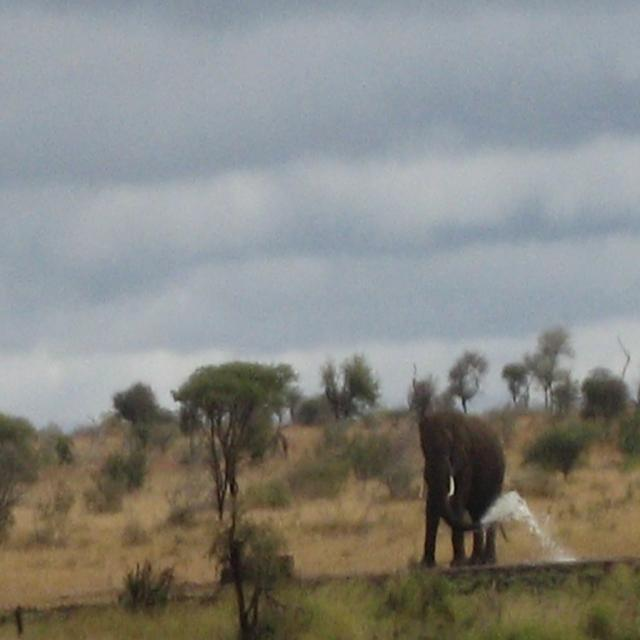Elephant: (417, 410, 507, 569)
